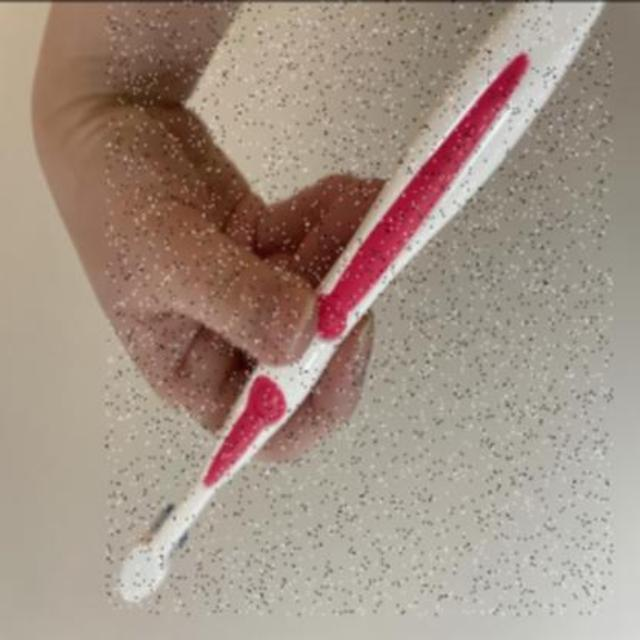toothbrush: (106, 1, 612, 614)
